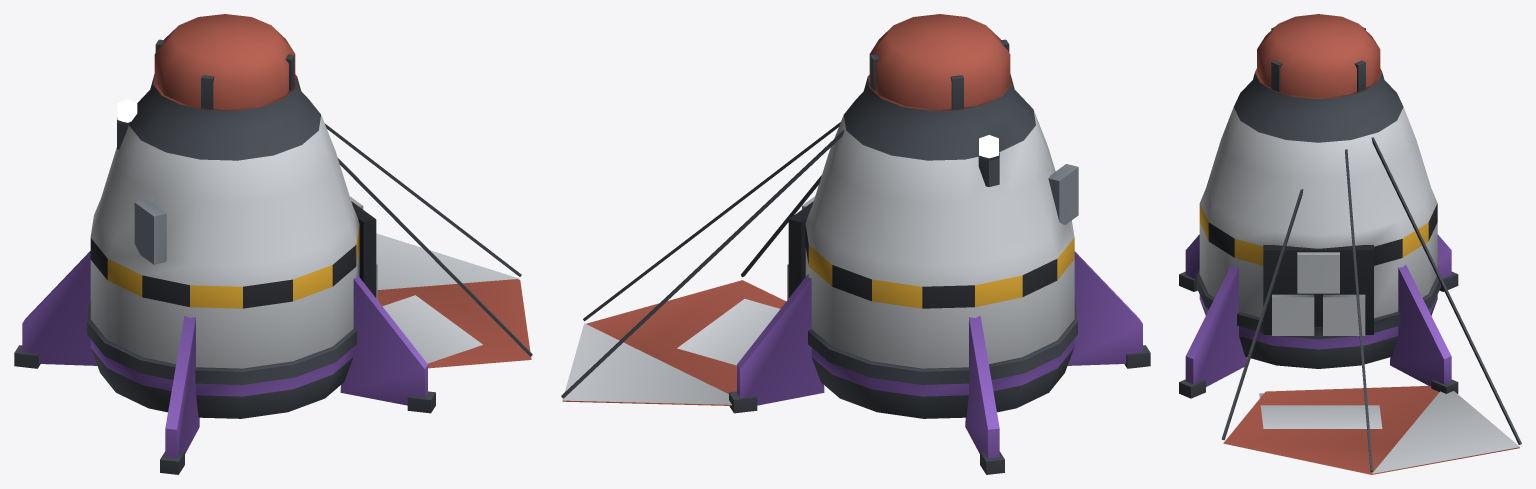
File: supply_pod.glb
3 renders of one model, left to right at view 1: azimuth 30°, elevation 25°; view 2: azimuth 150°, elevation 25°; view 3: azimuth 270°, elevation 25°, orthographic. The views are drawn at different scales.
Parts seen in each view (by area): view 1: Base; view 2: Base; view 3: Base.
Part boxes in pixels (left/top/right/bottom): Base: left=14, top=14, right=532, bottom=474; Base: left=561, top=14, right=1150, bottom=474; Base: left=1179, top=14, right=1521, bottom=474.
Size of the model in its own units: 2.21 by 1.62 by 1.61.
